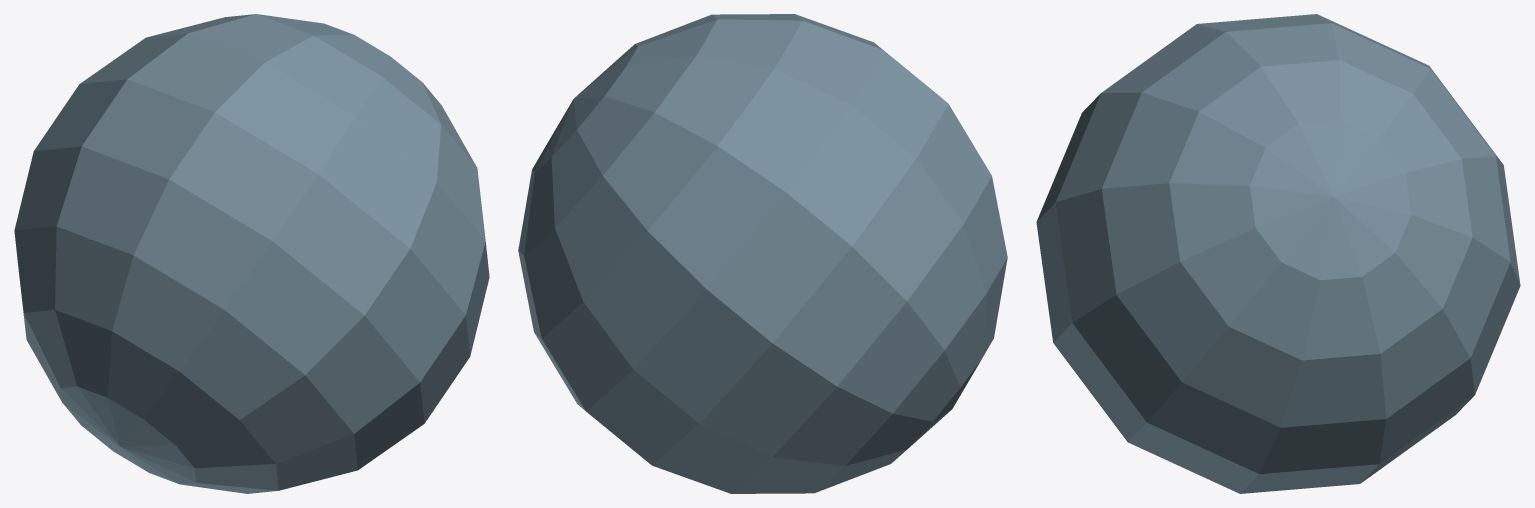
Rendered from astronaut_base_group332540088_lev4.glb.
The picture shows the model from 3 angles, left to right: view 1: azimuth 30°, elevation 25°; view 2: azimuth 150°, elevation 25°; view 3: azimuth 270°, elevation 25°; orthographic projection.
Parts seen in each view (by area): view 1: astronaut_base_group332540088_lev4; view 2: astronaut_base_group332540088_lev4; view 3: astronaut_base_group332540088_lev4.
Part boxes in pixels (box(x1,y1,x2,y2)): astronaut_base_group332540088_lev4: box(14, 14, 489, 493); astronaut_base_group332540088_lev4: box(518, 14, 1007, 493); astronaut_base_group332540088_lev4: box(1036, 14, 1520, 493).
Size of the model in its own units: 0.0329 by 0.0322 by 0.0328.
